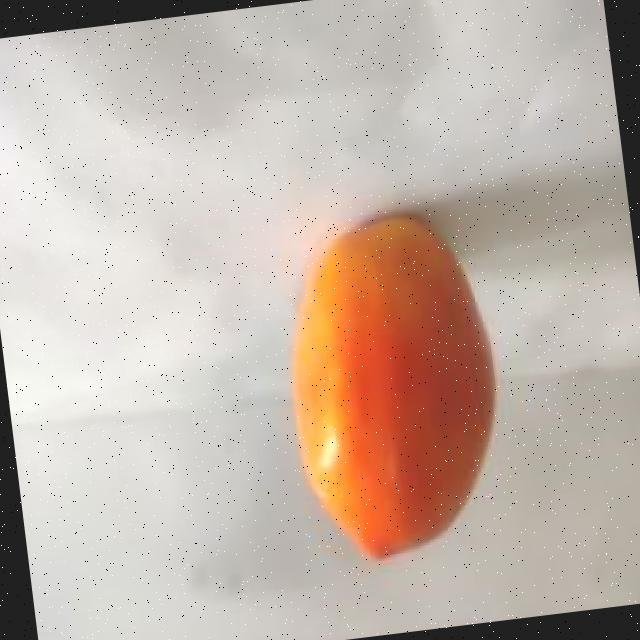Ripe: (266, 197, 524, 578)
